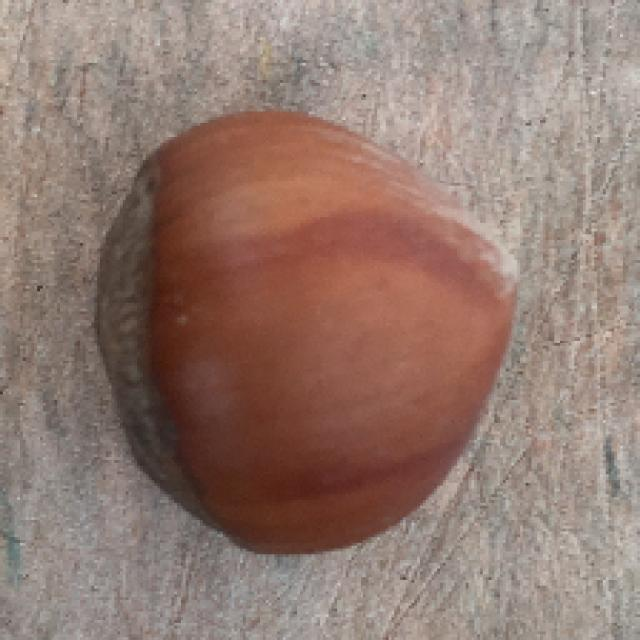qualityHazelnut: (84, 106, 526, 561)
